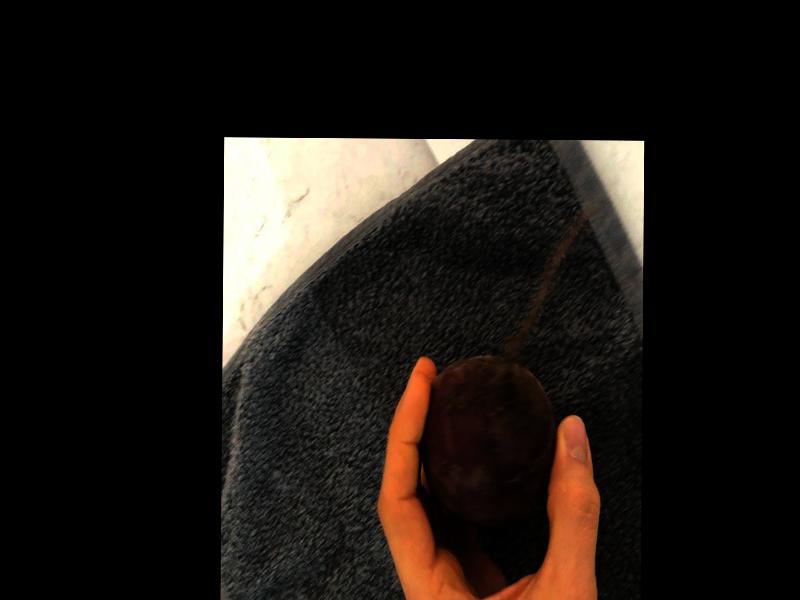Beet: (420, 356, 556, 529)
